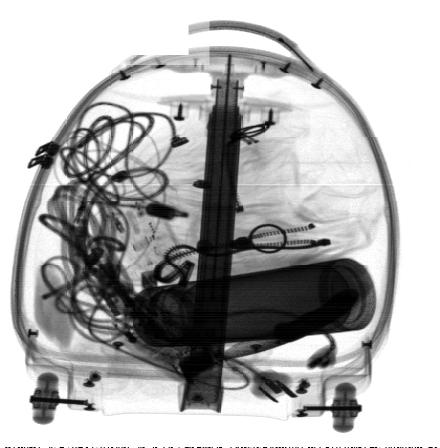Knife: (211, 289, 360, 363)
